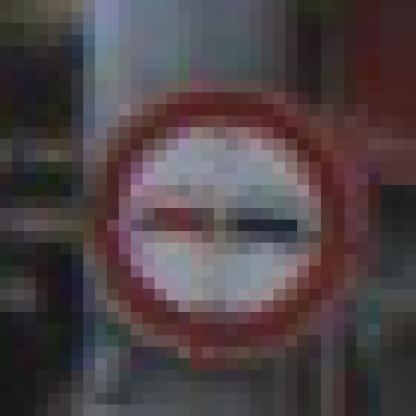No Overtaking: (72, 71, 358, 360)
